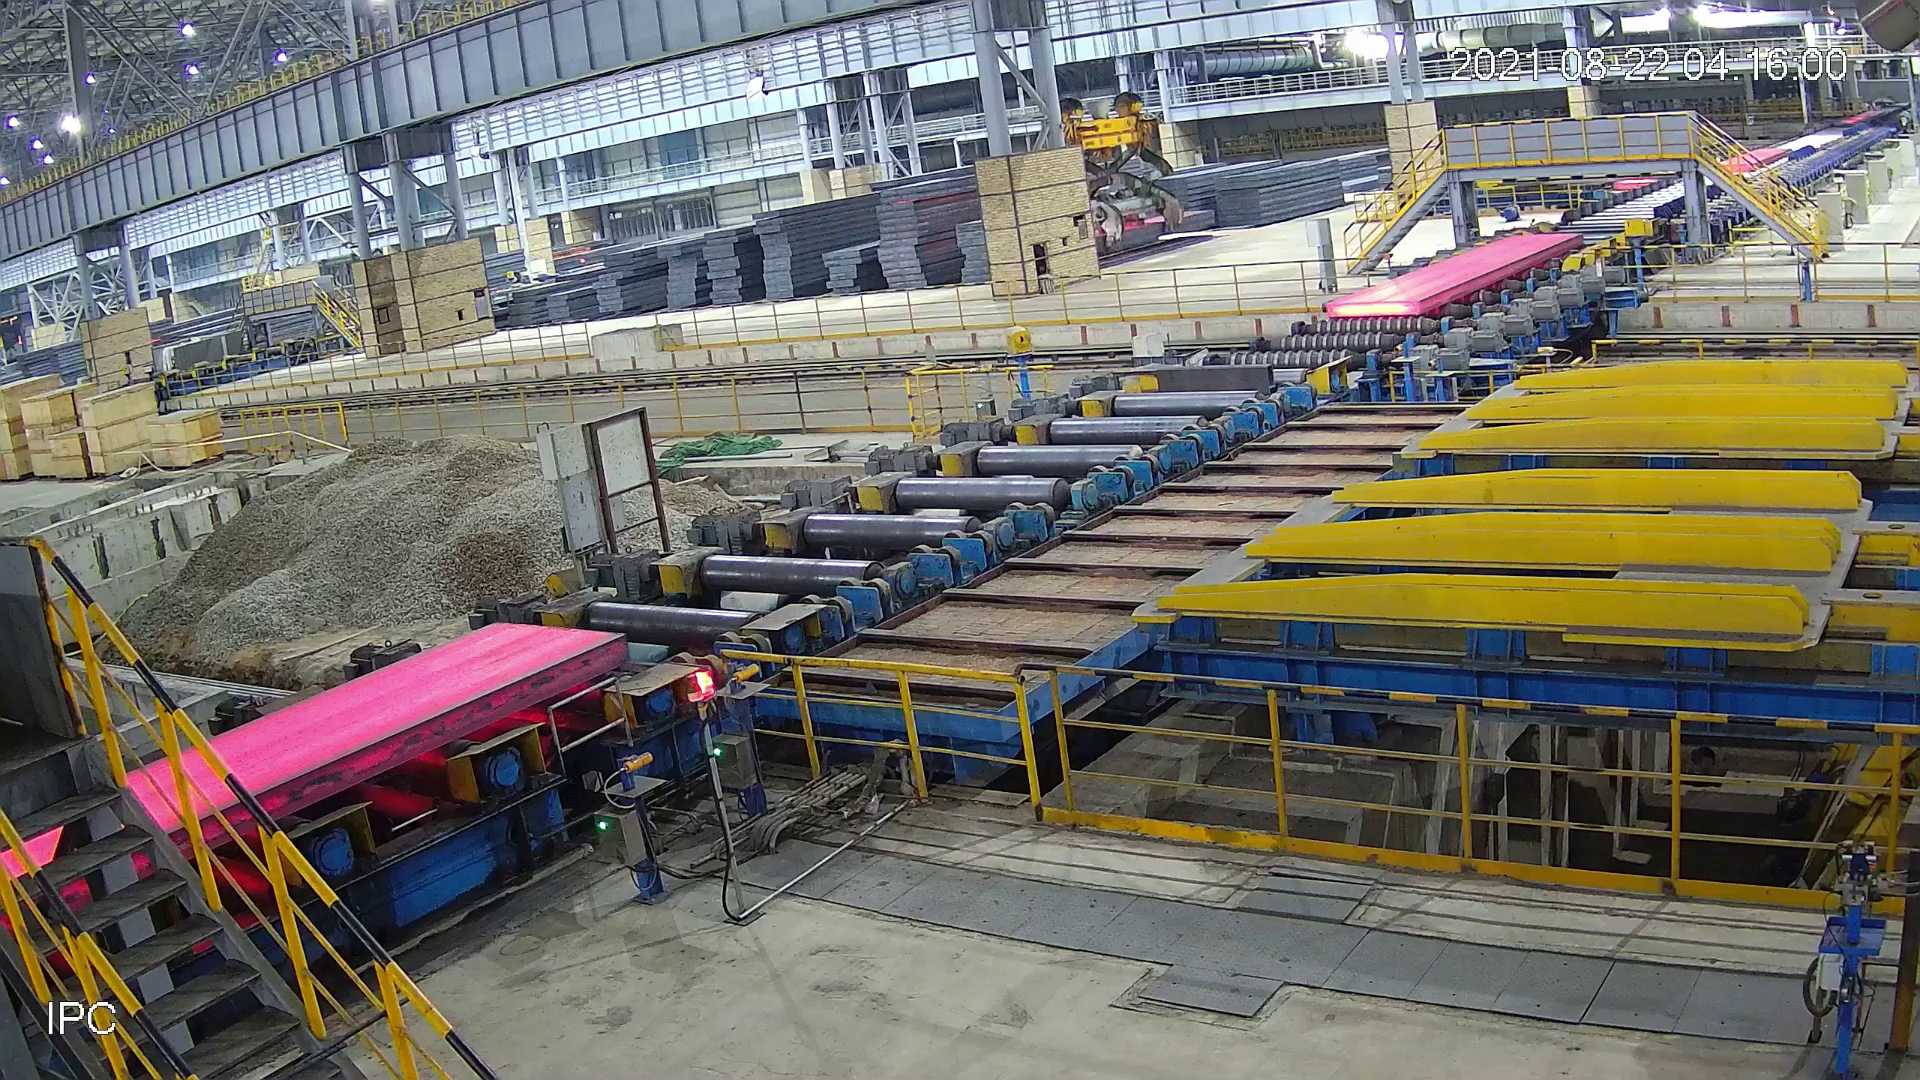slab: (1, 618, 647, 945), (1323, 233, 1590, 320)
